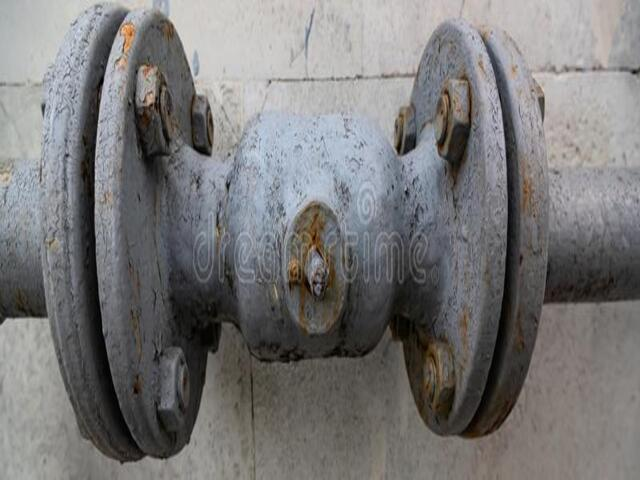Low: (287, 210, 351, 334), (416, 333, 457, 421), (138, 94, 176, 147), (112, 23, 138, 73)
